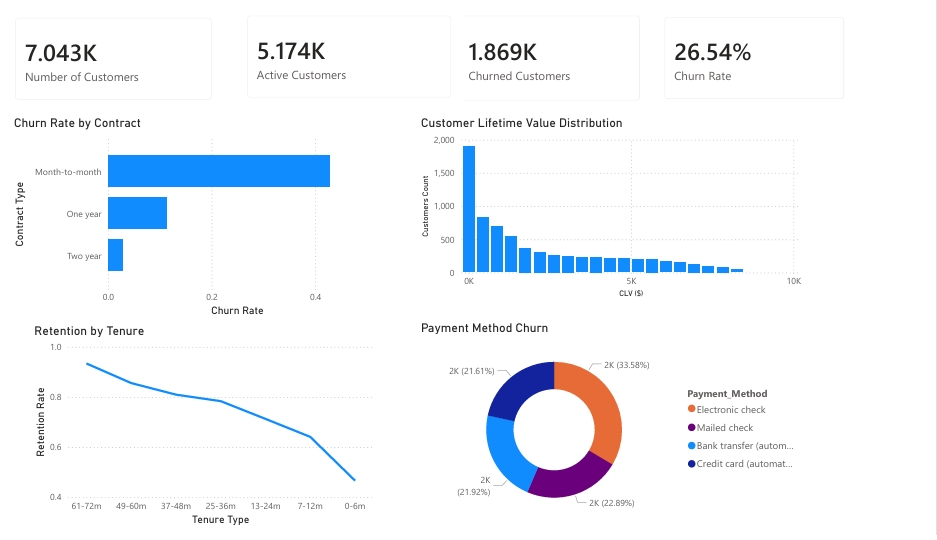

The page's visual inventory and layout, read from the dashboard file:
{"tool":"powerbi","page":{"name":"Page 1","canvas":[1280,720],"ordinal":0},"visuals":[{"type":"clusteredBarChart","title":"Churn Rate by Contract ","fields":{"Category":["Table1.Contract_Type"],"Y":["Sum(Table1.Churn_Rate)"]},"box":[10,154,502,280],"z":0},{"type":"lineChart","title":"Retention by Tenure ","fields":{"Category":["Table2.Tenure_Band"],"Y":["Sum(Table2.Retention_Rate)"]},"box":[38,438,474,282],"z":1},{"type":"donutChart","title":"Payment Method Churn ","fields":{"Category":["Table4.Payment_Method"],"Y":["Sum(Table4.Customers)"]},"box":[568,434,532,282],"z":2},{"type":"clusteredColumnChart","title":"Customer Lifetime Value Distribution ","fields":{"Y":["Count(Clean Data.Customer ID)"],"Category":["Clean Data.CLV ($) (bins)"]},"box":[568,154,532,254],"z":3},{"type":"cardVisual","fields":{"Data":["Count(Clean Data.Customer ID)"]},"box":[0,3.1,303.2,147],"z":4},{"type":"cardVisual","fields":{"Data":["Clean Data.Churn Rate"]},"box":[890,2,280,146],"z":5},{"type":"cardVisual","fields":{"Data":["CountNonNull(Clean Data.Churn)"]},"box":[608,0,282,150],"z":6},{"type":"cardVisual","fields":{"Data":["CountNonNull(Clean Data.Churn)"]},"box":[318.5,0,313.9,147],"z":7}]}

Visuals, with their boxes in screenshot pixels (x1, y1, x2, y2), scaled from the page's 1280x720 canvas onto the 937x540 screenshot:
"Churn Rate by Contract " clusteredBarChart: (7, 116, 375, 326)
"Retention by Tenure " lineChart: (28, 328, 375, 539)
"Payment Method Churn " donutChart: (416, 326, 805, 537)
"Customer Lifetime Value Distribution " clusteredColumnChart: (416, 116, 805, 306)
cardVisual - Count(Clean Data.Customer ID): (0, 2, 222, 113)
cardVisual - Clean Data.Churn Rate: (652, 2, 856, 111)
cardVisual - CountNonNull(Clean Data.Churn): (445, 0, 652, 112)
cardVisual - CountNonNull(Clean Data.Churn): (233, 0, 463, 110)
